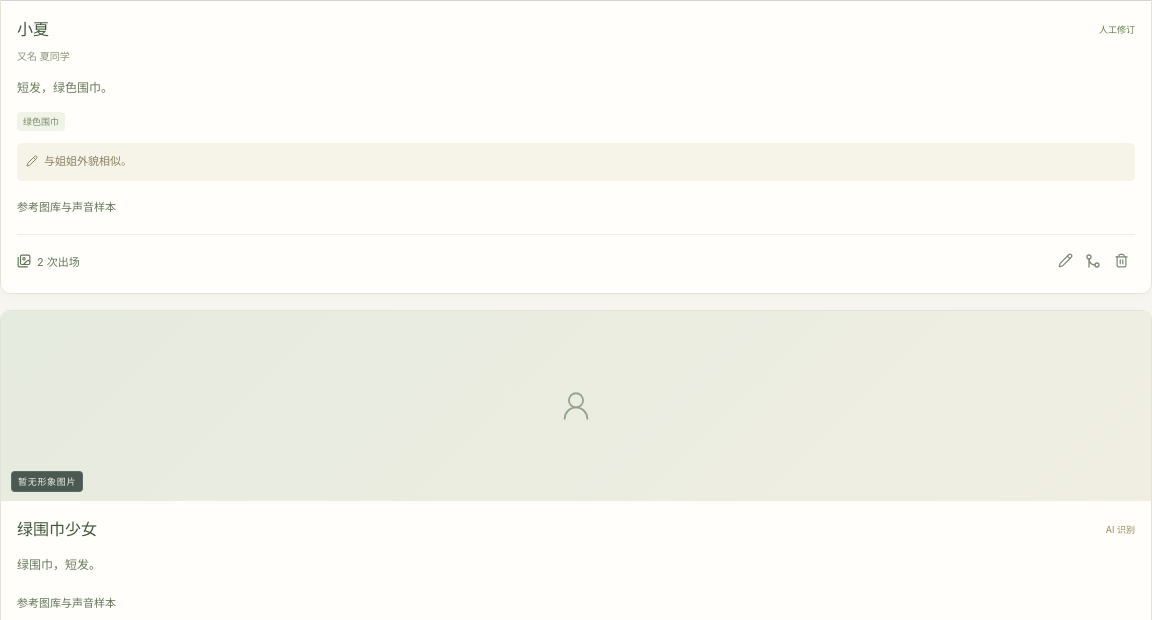
Test: Cross-shot character dossiers › only deletes after the graphical confirmation and preserves the revision guard
The width and height of the screenshot is (1152, 620).
(page scrolled)
Click the button named "删除小夏的档案".
click(1121, 261)  # box [1107,245,1135,277]
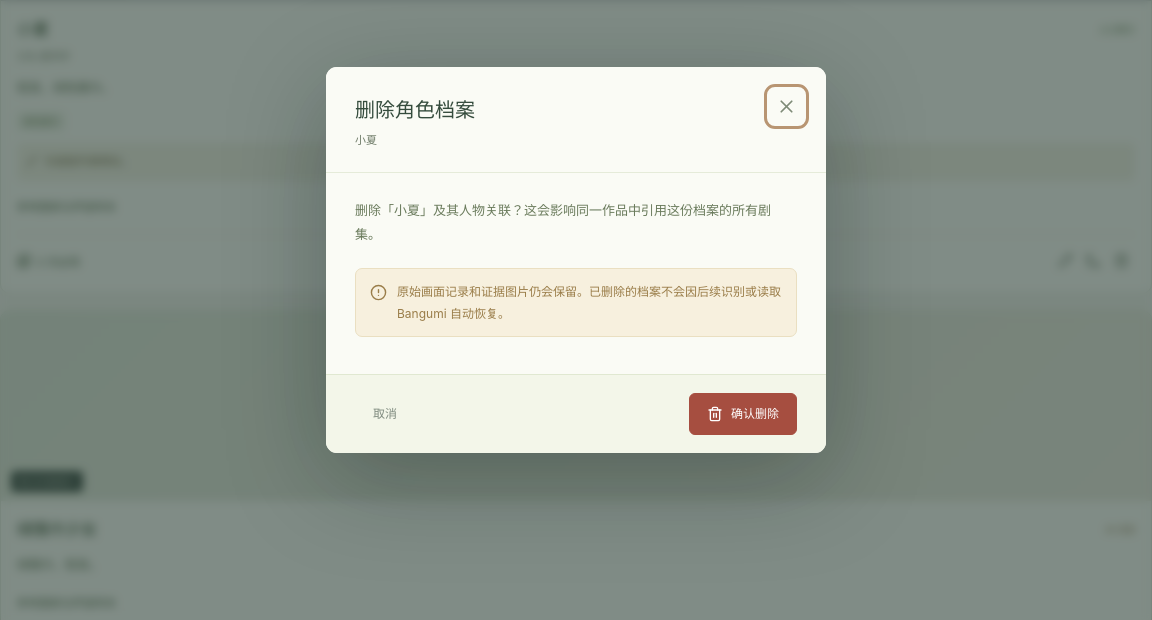
Expected: the text "原始画面记录和证据图片仍会保留。已删除的档案不会因后续识别或读取 Bangumi 自动恢复。" is shown, [397,281,782,324]
Click the button "取消".
click(385, 414)  # box [355,393,415,435]
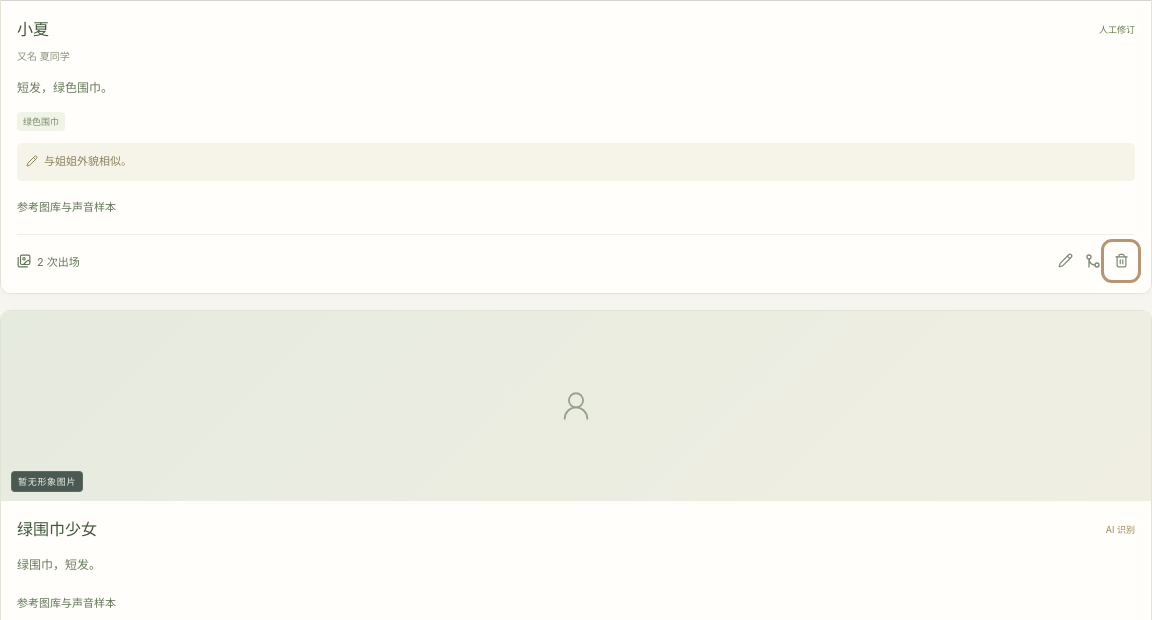
Click the button named "删除小夏的档案".
click(1121, 261)  # box [1107,245,1135,277]
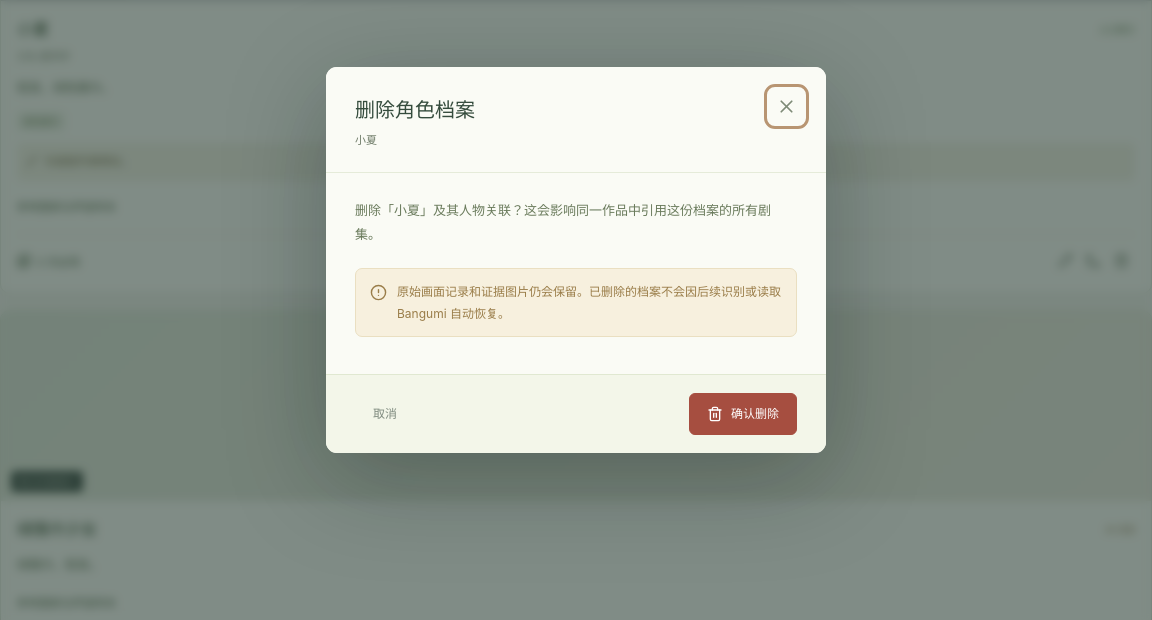
Click the button "确认删除".
click(743, 414)  # box [689,393,797,435]
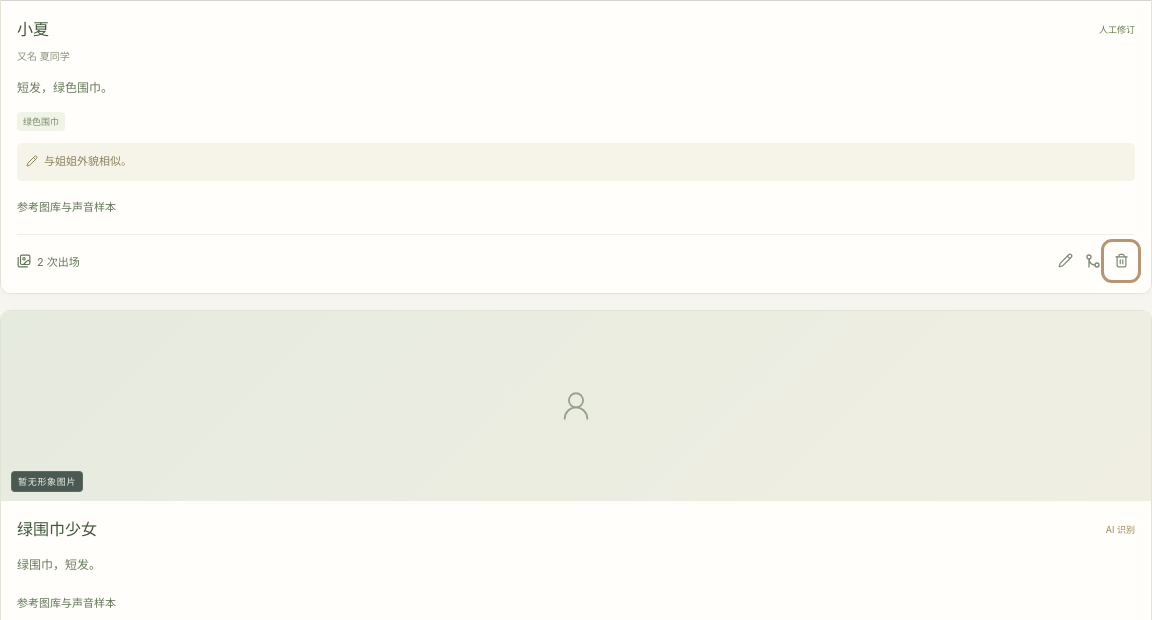
Expected: the dialog is gone
